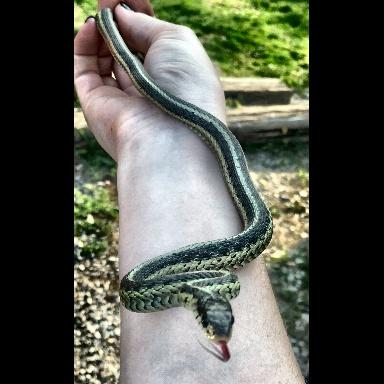snake: (87, 5, 281, 374)
